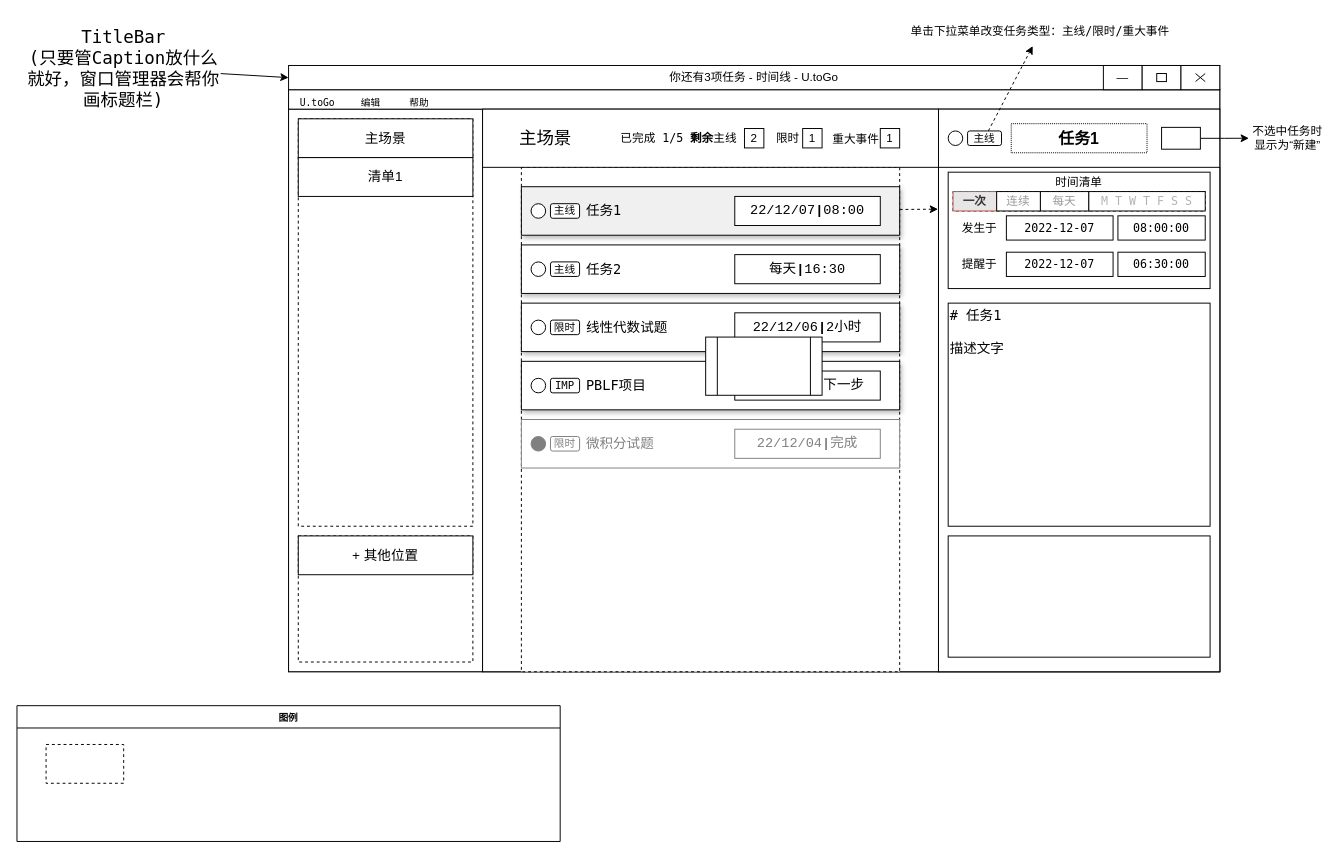
Image size: 1343x858. Some labels were removed from this diagram. The centre of each missing label's shape, as x and y in pixels:
完毕: the point at 1180,137
隐藏控件: the point at 84,763
